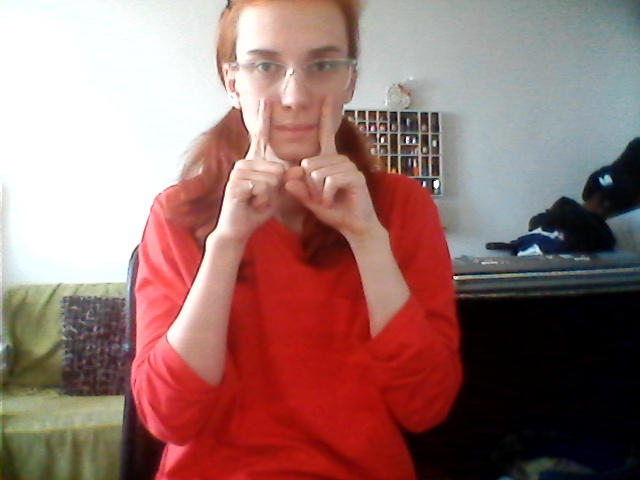h: (215, 93, 378, 228)
